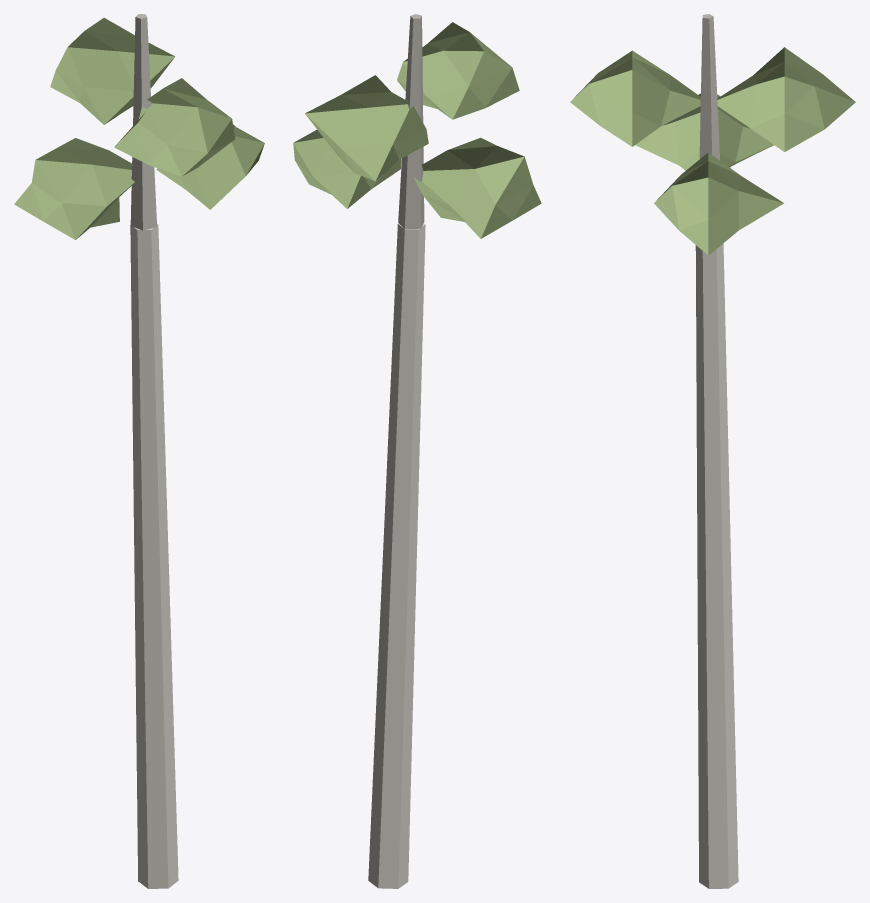
File: birch_v09.glb
3 views of the same model, side by side, from view 1: azimuth 30°, elevation 25°; view 2: azimuth 150°, elevation 25°; view 3: azimuth 270°, elevation 25° (orthographic). The views are drawn at different scales.
Parts seen in each view (by area): view 1: lod0; view 2: lod0; view 3: lod0.
Boxes of the visible parts, box(x1,y1,x2,y2) form: lod0: box(14, 14, 264, 888); lod0: box(293, 14, 541, 888); lod0: box(570, 14, 855, 888).
Size of what is drawn, in the model's own units: 1.86 by 6.21 by 1.88.
